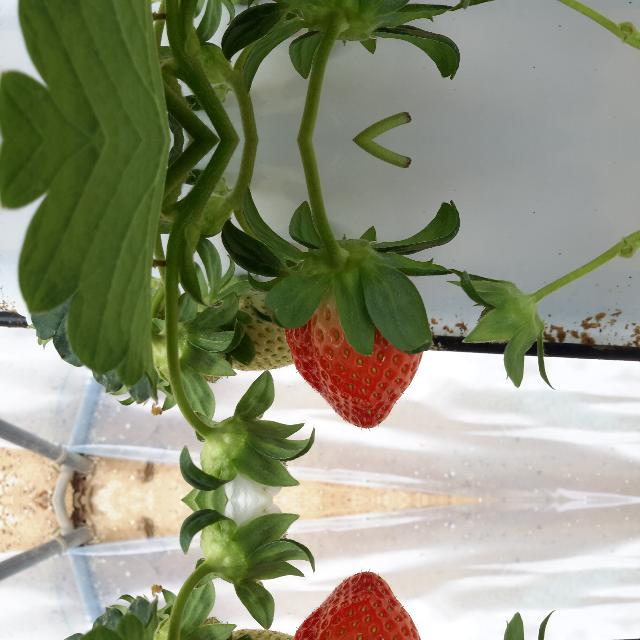Health_100: (284, 287, 422, 429), (284, 571, 421, 640)
Health_25: (198, 281, 294, 375)
